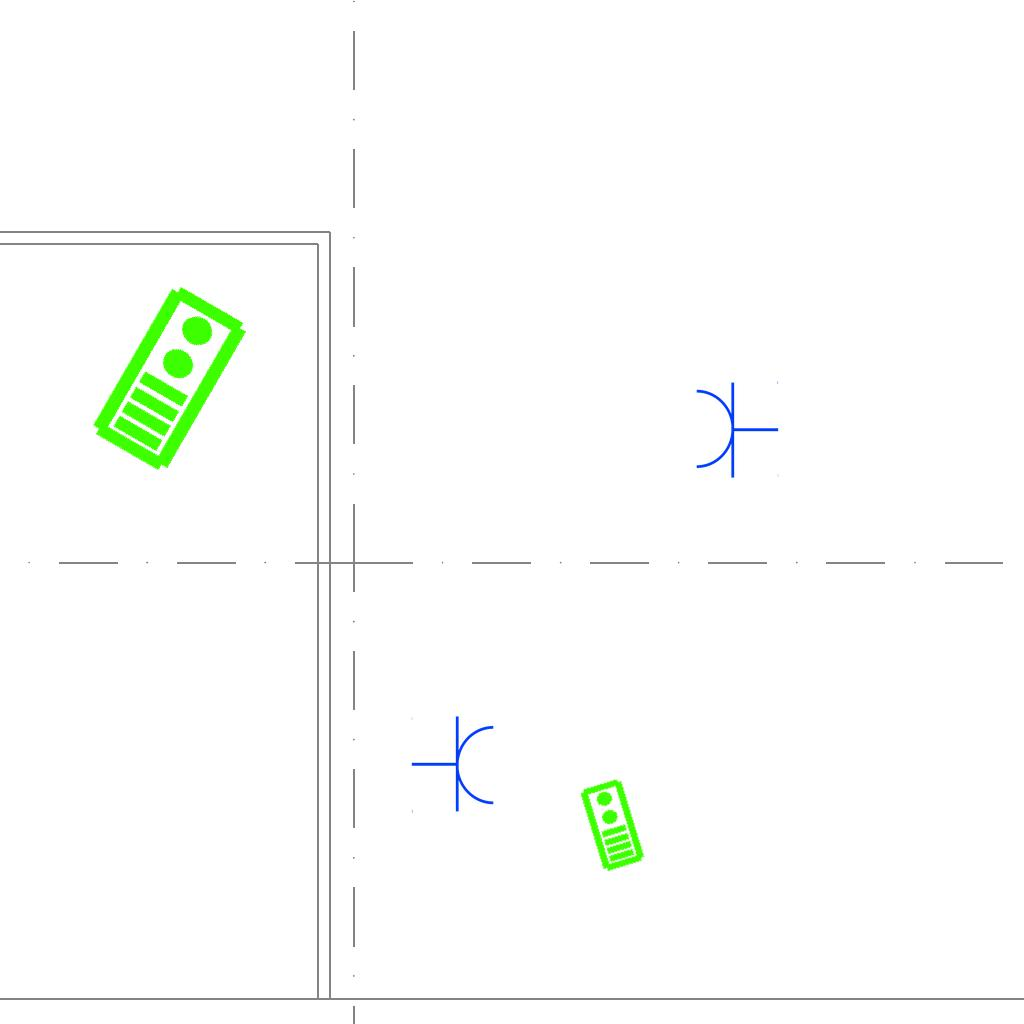Gegensprechanlage_mit_Video: (83, 277, 254, 477), (576, 776, 647, 874)
Schukosteckdose_einfach: (411, 715, 498, 815), (692, 379, 779, 479)
